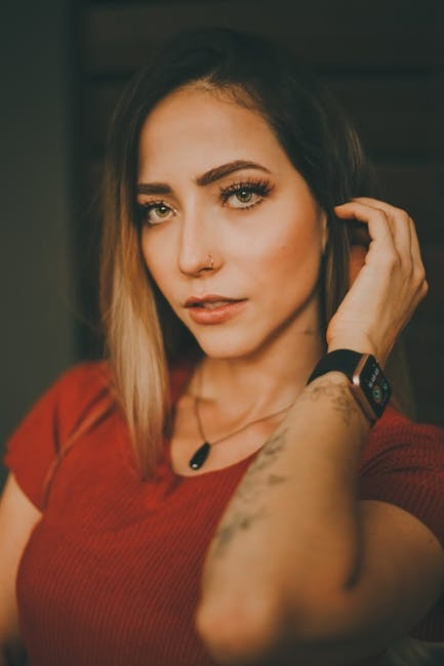face: (137, 85, 321, 359)
